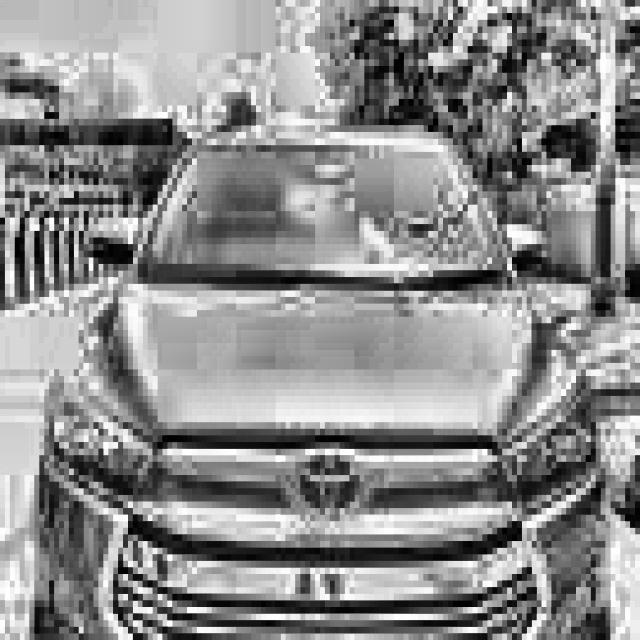light_vehicle: (29, 125, 610, 640)
